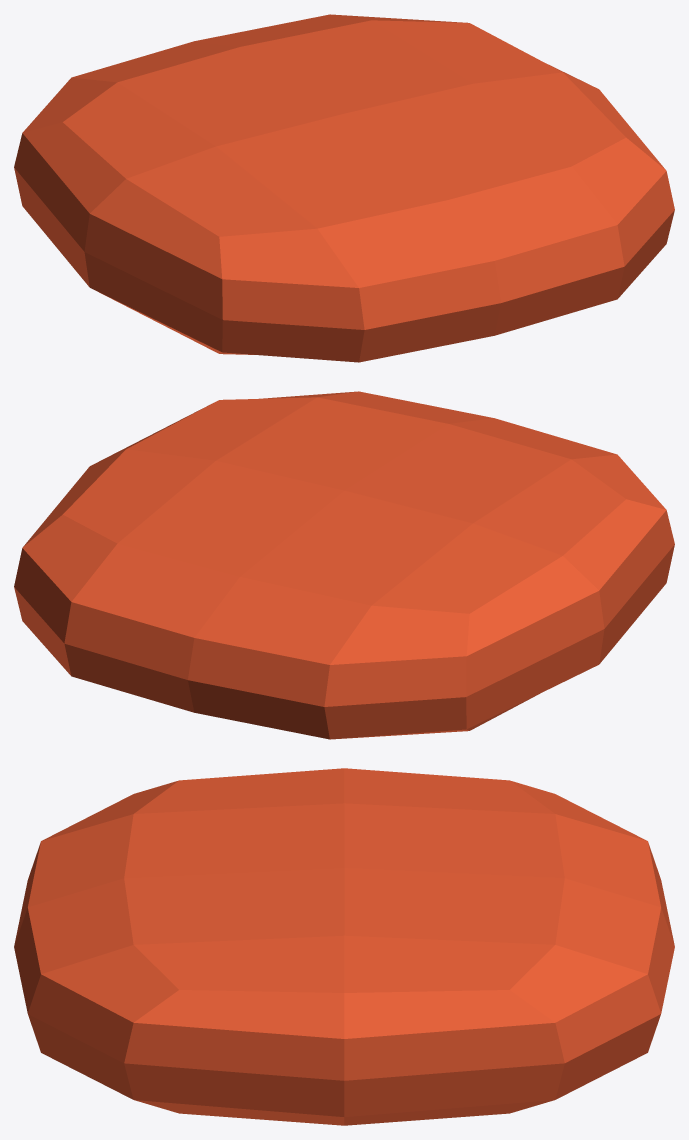
Rendered from menti.fbx.
The picture shows the model from 3 angles, top to bottom: view 1: azimuth 30°, elevation 25°; view 2: azimuth 150°, elevation 25°; view 3: azimuth 270°, elevation 25°; orthographic projection. The views are drawn at different scales.
Parts seen in each view (by area): view 1: Cube; view 2: Cube; view 3: Cube.
Part boxes in pixels (x1=…): Cube: x1=14, y1=14, x2=674, y2=362; Cube: x1=14, y1=391, x2=674, y2=739; Cube: x1=14, y1=768, x2=674, y2=1125.
Size of the model in its own units: 138 by 37.86 by 144.
